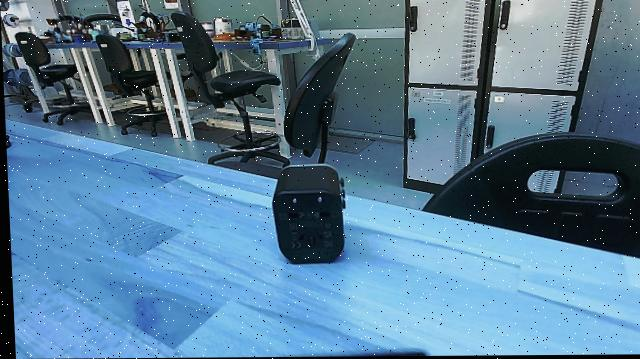adapter: (261, 159, 355, 271)
